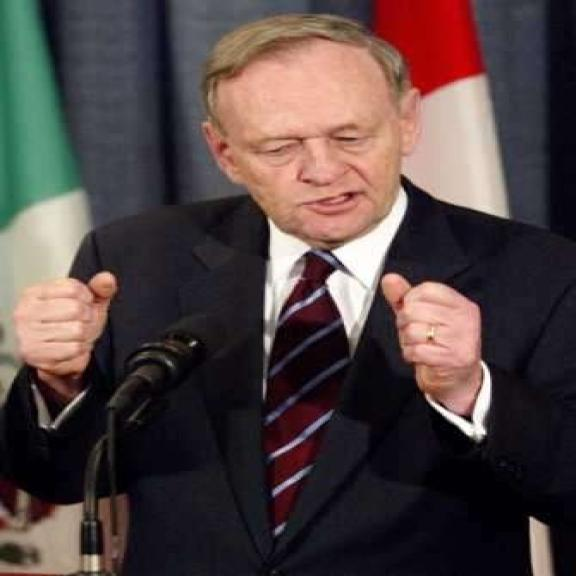face: (194, 44, 425, 240)
